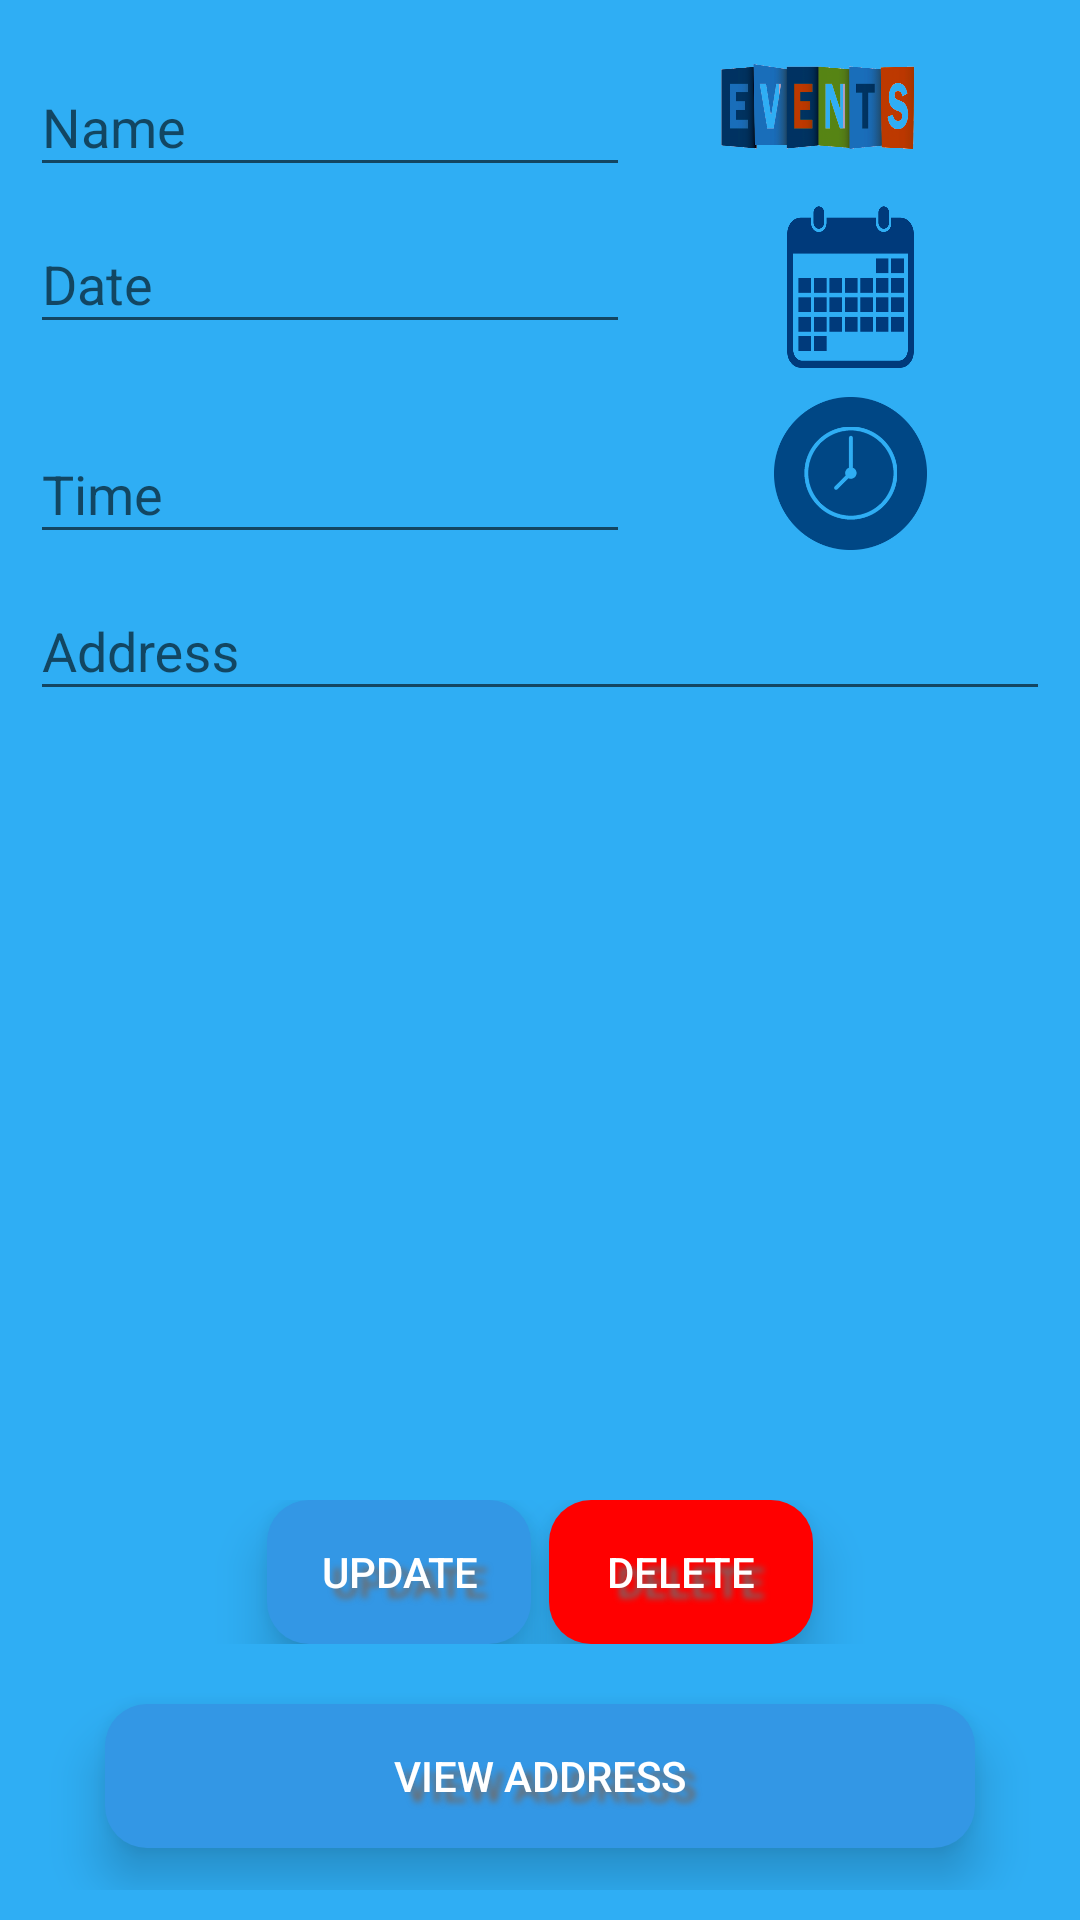

Screen size 1080 × 1920. Icon name, then its box in pixels as (x1, y1, x2, y2):
calendarblue: (787, 206, 914, 368)
